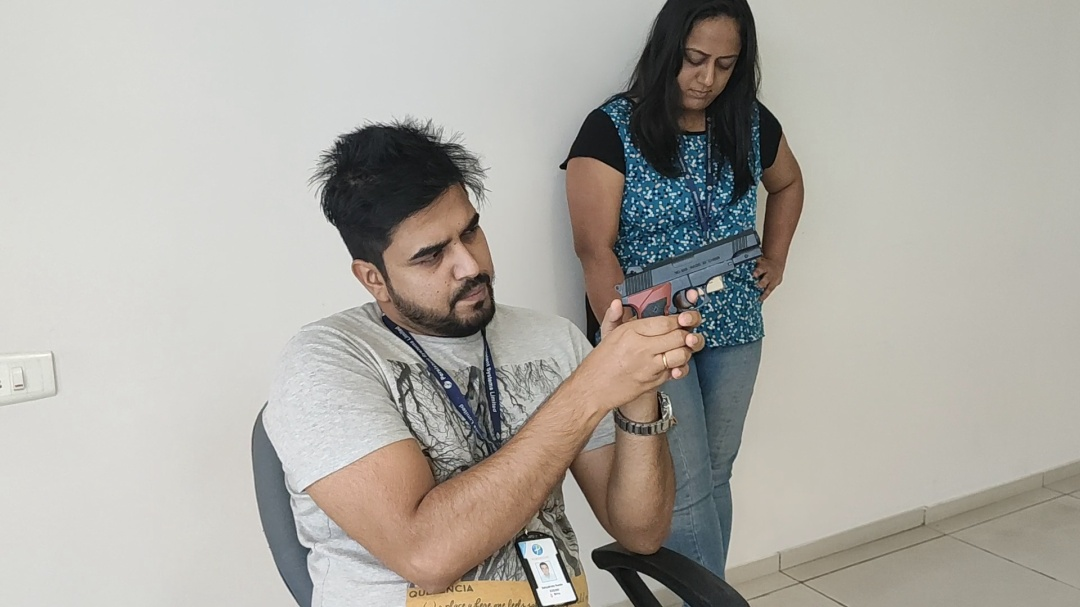gun: (348, 57, 719, 467)
